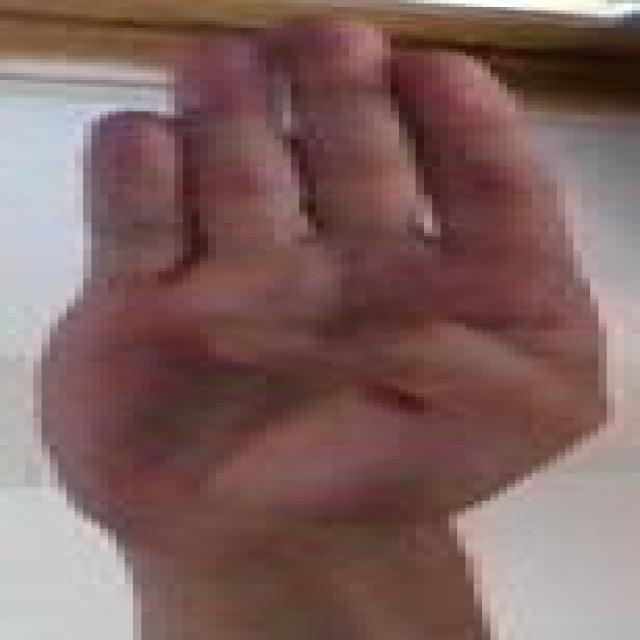B: (21, 11, 623, 566)
